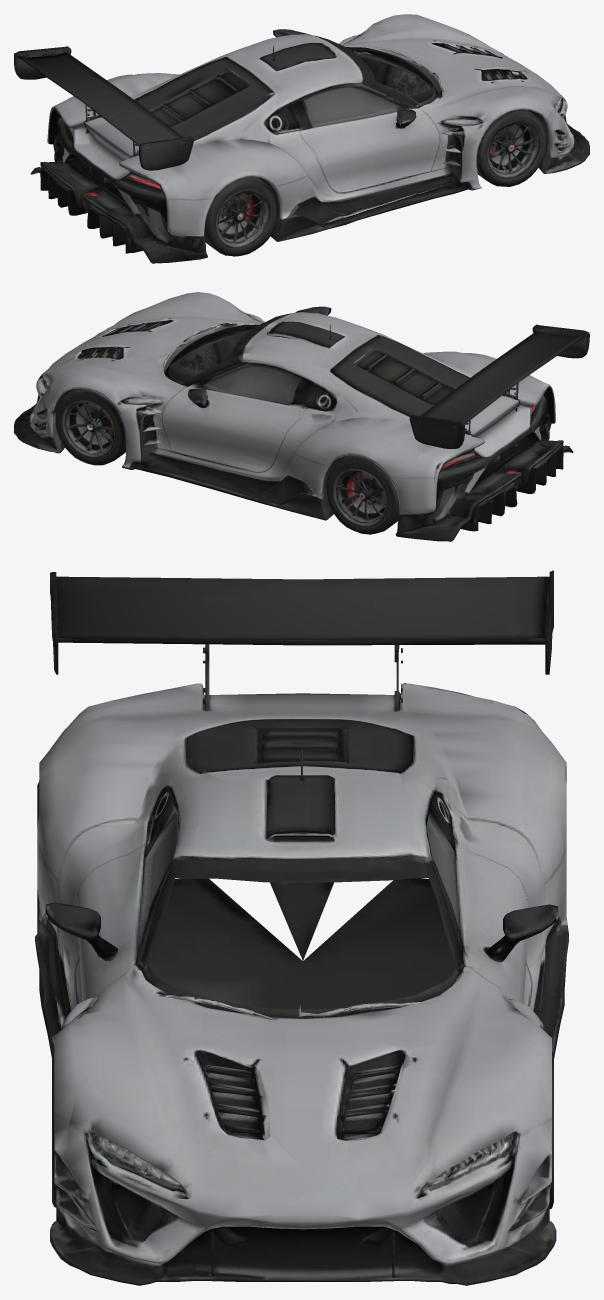
The model's file is car.glb.
3 renders of one model, top to bottom at view 1: azimuth 30°, elevation 25°; view 2: azimuth 150°, elevation 25°; view 3: azimuth 270°, elevation 25°, orthographic. The views are drawn at different scales.
Parts seen in each view (by area): view 1: tripo_node_dc9bc950-4195-4982-b11e-9720082853b8; view 2: tripo_node_dc9bc950-4195-4982-b11e-9720082853b8; view 3: tripo_node_dc9bc950-4195-4982-b11e-9720082853b8.
Part boxes in pixels (<box>): tripo_node_dc9bc950-4195-4982-b11e-9720082853b8: <box>14,14,589,263</box>; tripo_node_dc9bc950-4195-4982-b11e-9720082853b8: <box>14,292,589,541</box>; tripo_node_dc9bc950-4195-4982-b11e-9720082853b8: <box>35,570,568,1285</box>.
Bounding box in the file's own units: 0.998 × 0.2832 × 0.4902.
Materials: 1 (1 with a texture image).
